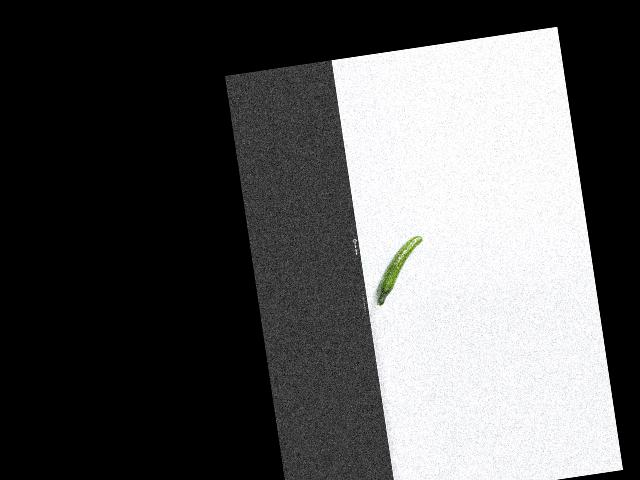cucumber: (368, 235, 431, 307)
